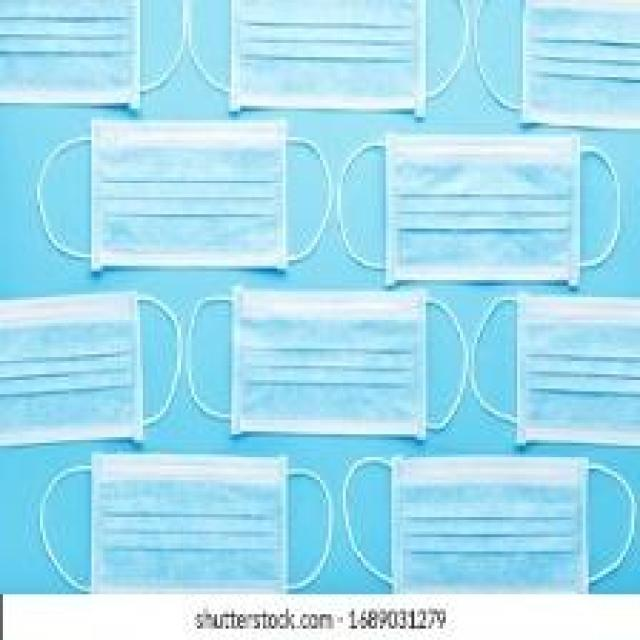Mask: (221, 252, 508, 482), (55, 118, 364, 287), (90, 429, 352, 619), (342, 434, 630, 602), (382, 109, 620, 300), (164, 0, 462, 138), (2, 277, 184, 449), (493, 272, 640, 457), (497, 3, 640, 147)
